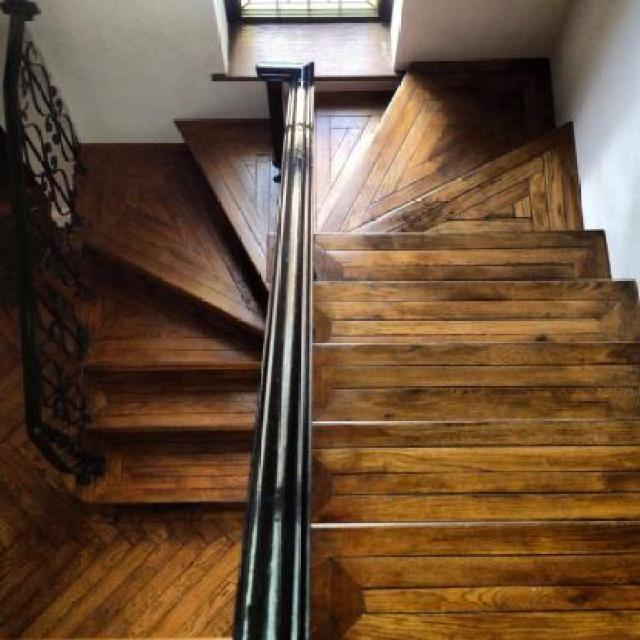stair: (0, 1, 640, 634)
